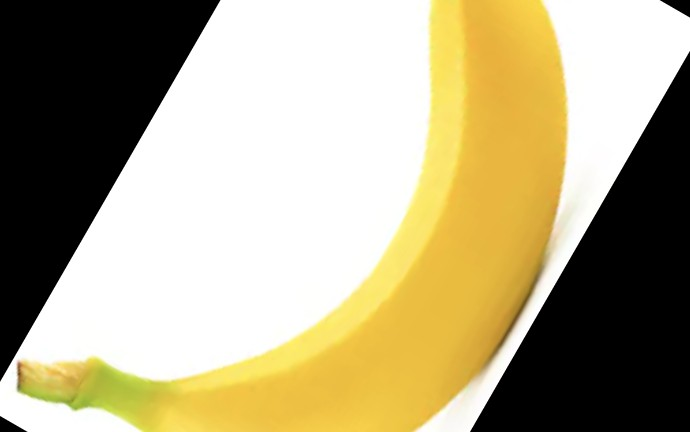fresh_banana: (19, 3, 568, 432)
